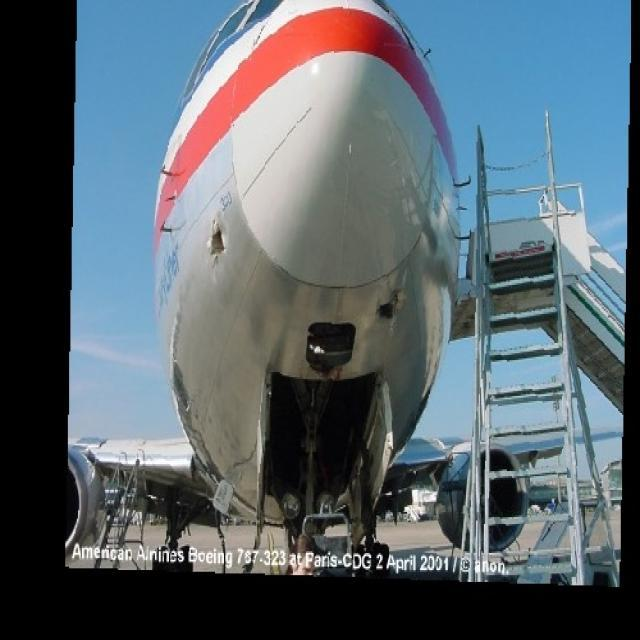dent: (203, 235, 235, 273), (375, 283, 401, 317)
